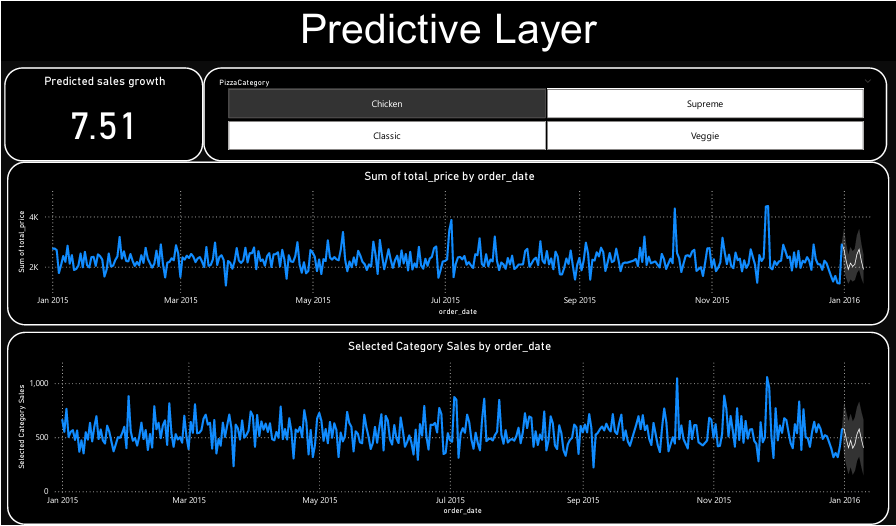

This screenshot's page, from the dashboard's own definition file:
{"tool":"powerbi","page":{"name":"Predictive Layer","canvas":[1280,750],"ordinal":2},"visuals":[{"type":"lineChart","fields":{"Y":["Sum(pizza_sales_clean.total_price)"],"Category":["pizza_sales_clean.order_date"]},"box":[7.5,228.8,1263.8,235],"z":0},{"type":"lineChart","fields":{"Category":["pizza_sales_clean.order_date"],"Y":["CategorySelector.Selected Category Sales"]},"box":[7.5,472.5,1263.8,277.5],"z":1000},{"type":"slicer","fields":{"Values":["CategorySelector.PizzaCategory"]},"box":[288.8,93.8,978.8,135],"z":2000},{"type":"textbox","box":[0,0,1280,85],"z":3000},{"type":"card","title":"Predicted sales growth","fields":{"Values":["CategorySelector.Forecast Growth %"]},"box":[3.8,93.8,285,135],"z":4000}]}

Visuals, with their boxes in screenshot pixels (x1, y1, x2, y2), scaled from the page's 1280x750 canvas onto the 896x526 screenshot:
lineChart - Sum(pizza_sales_clean.total_price) x pizza_sales_clean.order_date: select_region(5, 160, 890, 325)
lineChart - pizza_sales_clean.order_date x CategorySelector.Selected Category Sales: select_region(5, 331, 890, 525)
slicer - CategorySelector.PizzaCategory: select_region(202, 66, 887, 160)
textbox: select_region(0, 0, 895, 60)
"Predicted sales growth" card: select_region(3, 66, 202, 160)
